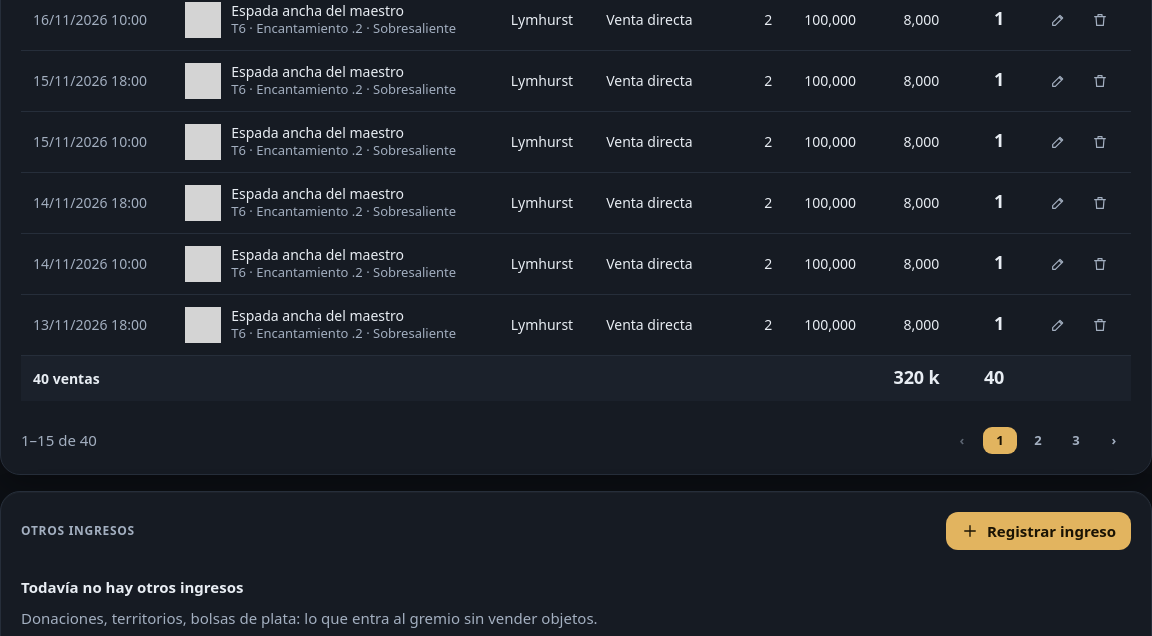
paginación › cambiar un filtro vuelve a la primera página
(page scrolled)
Click the button named "Página siguiente". click: (1114, 440)
box: [1097, 426, 1131, 454]
(page scrolled)
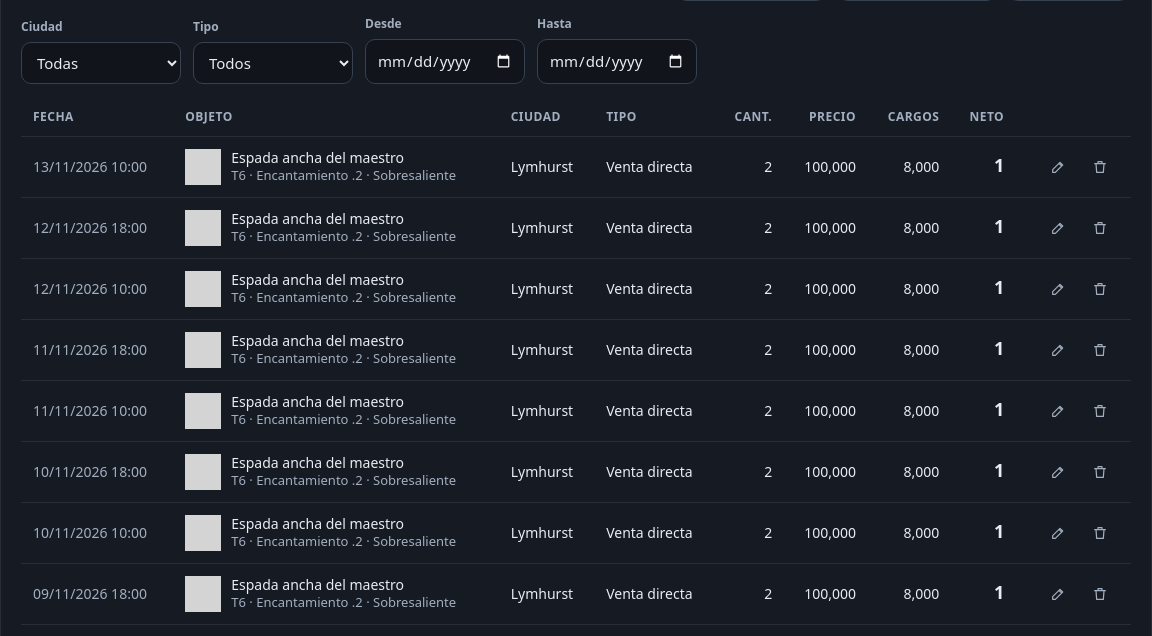
Select "Caerleon" in the dropdown labelled "Ciudad". click: (101, 62)
box: [21, 42, 181, 84]
(page scrolled)
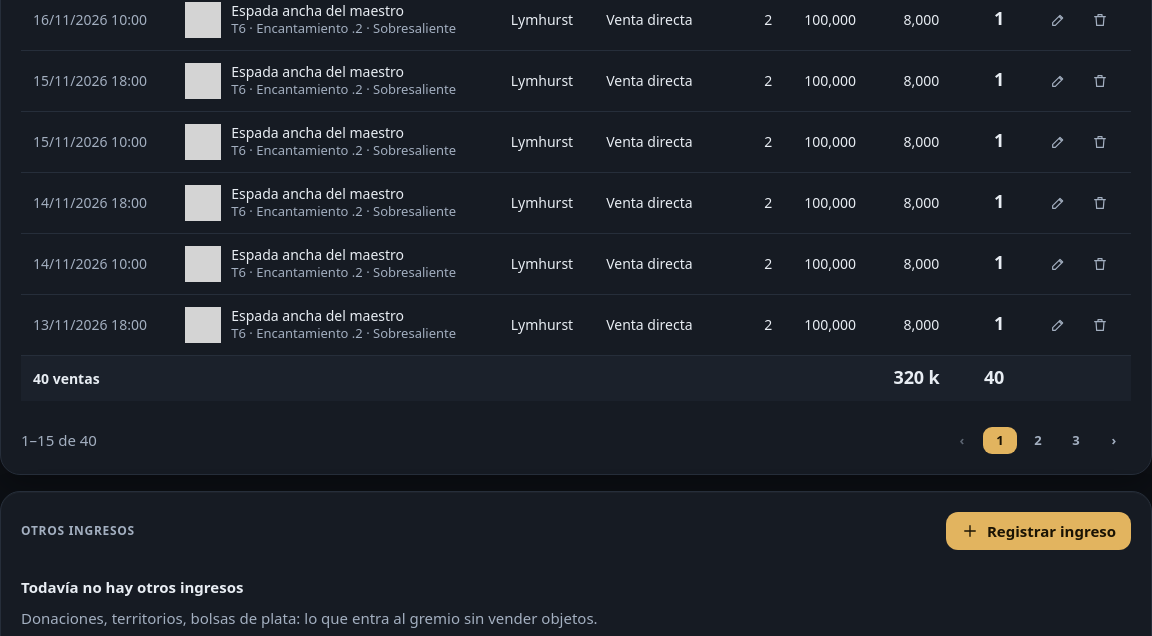
expect the text "1–15 de 40" is shown: met, box [21, 429, 97, 452]
